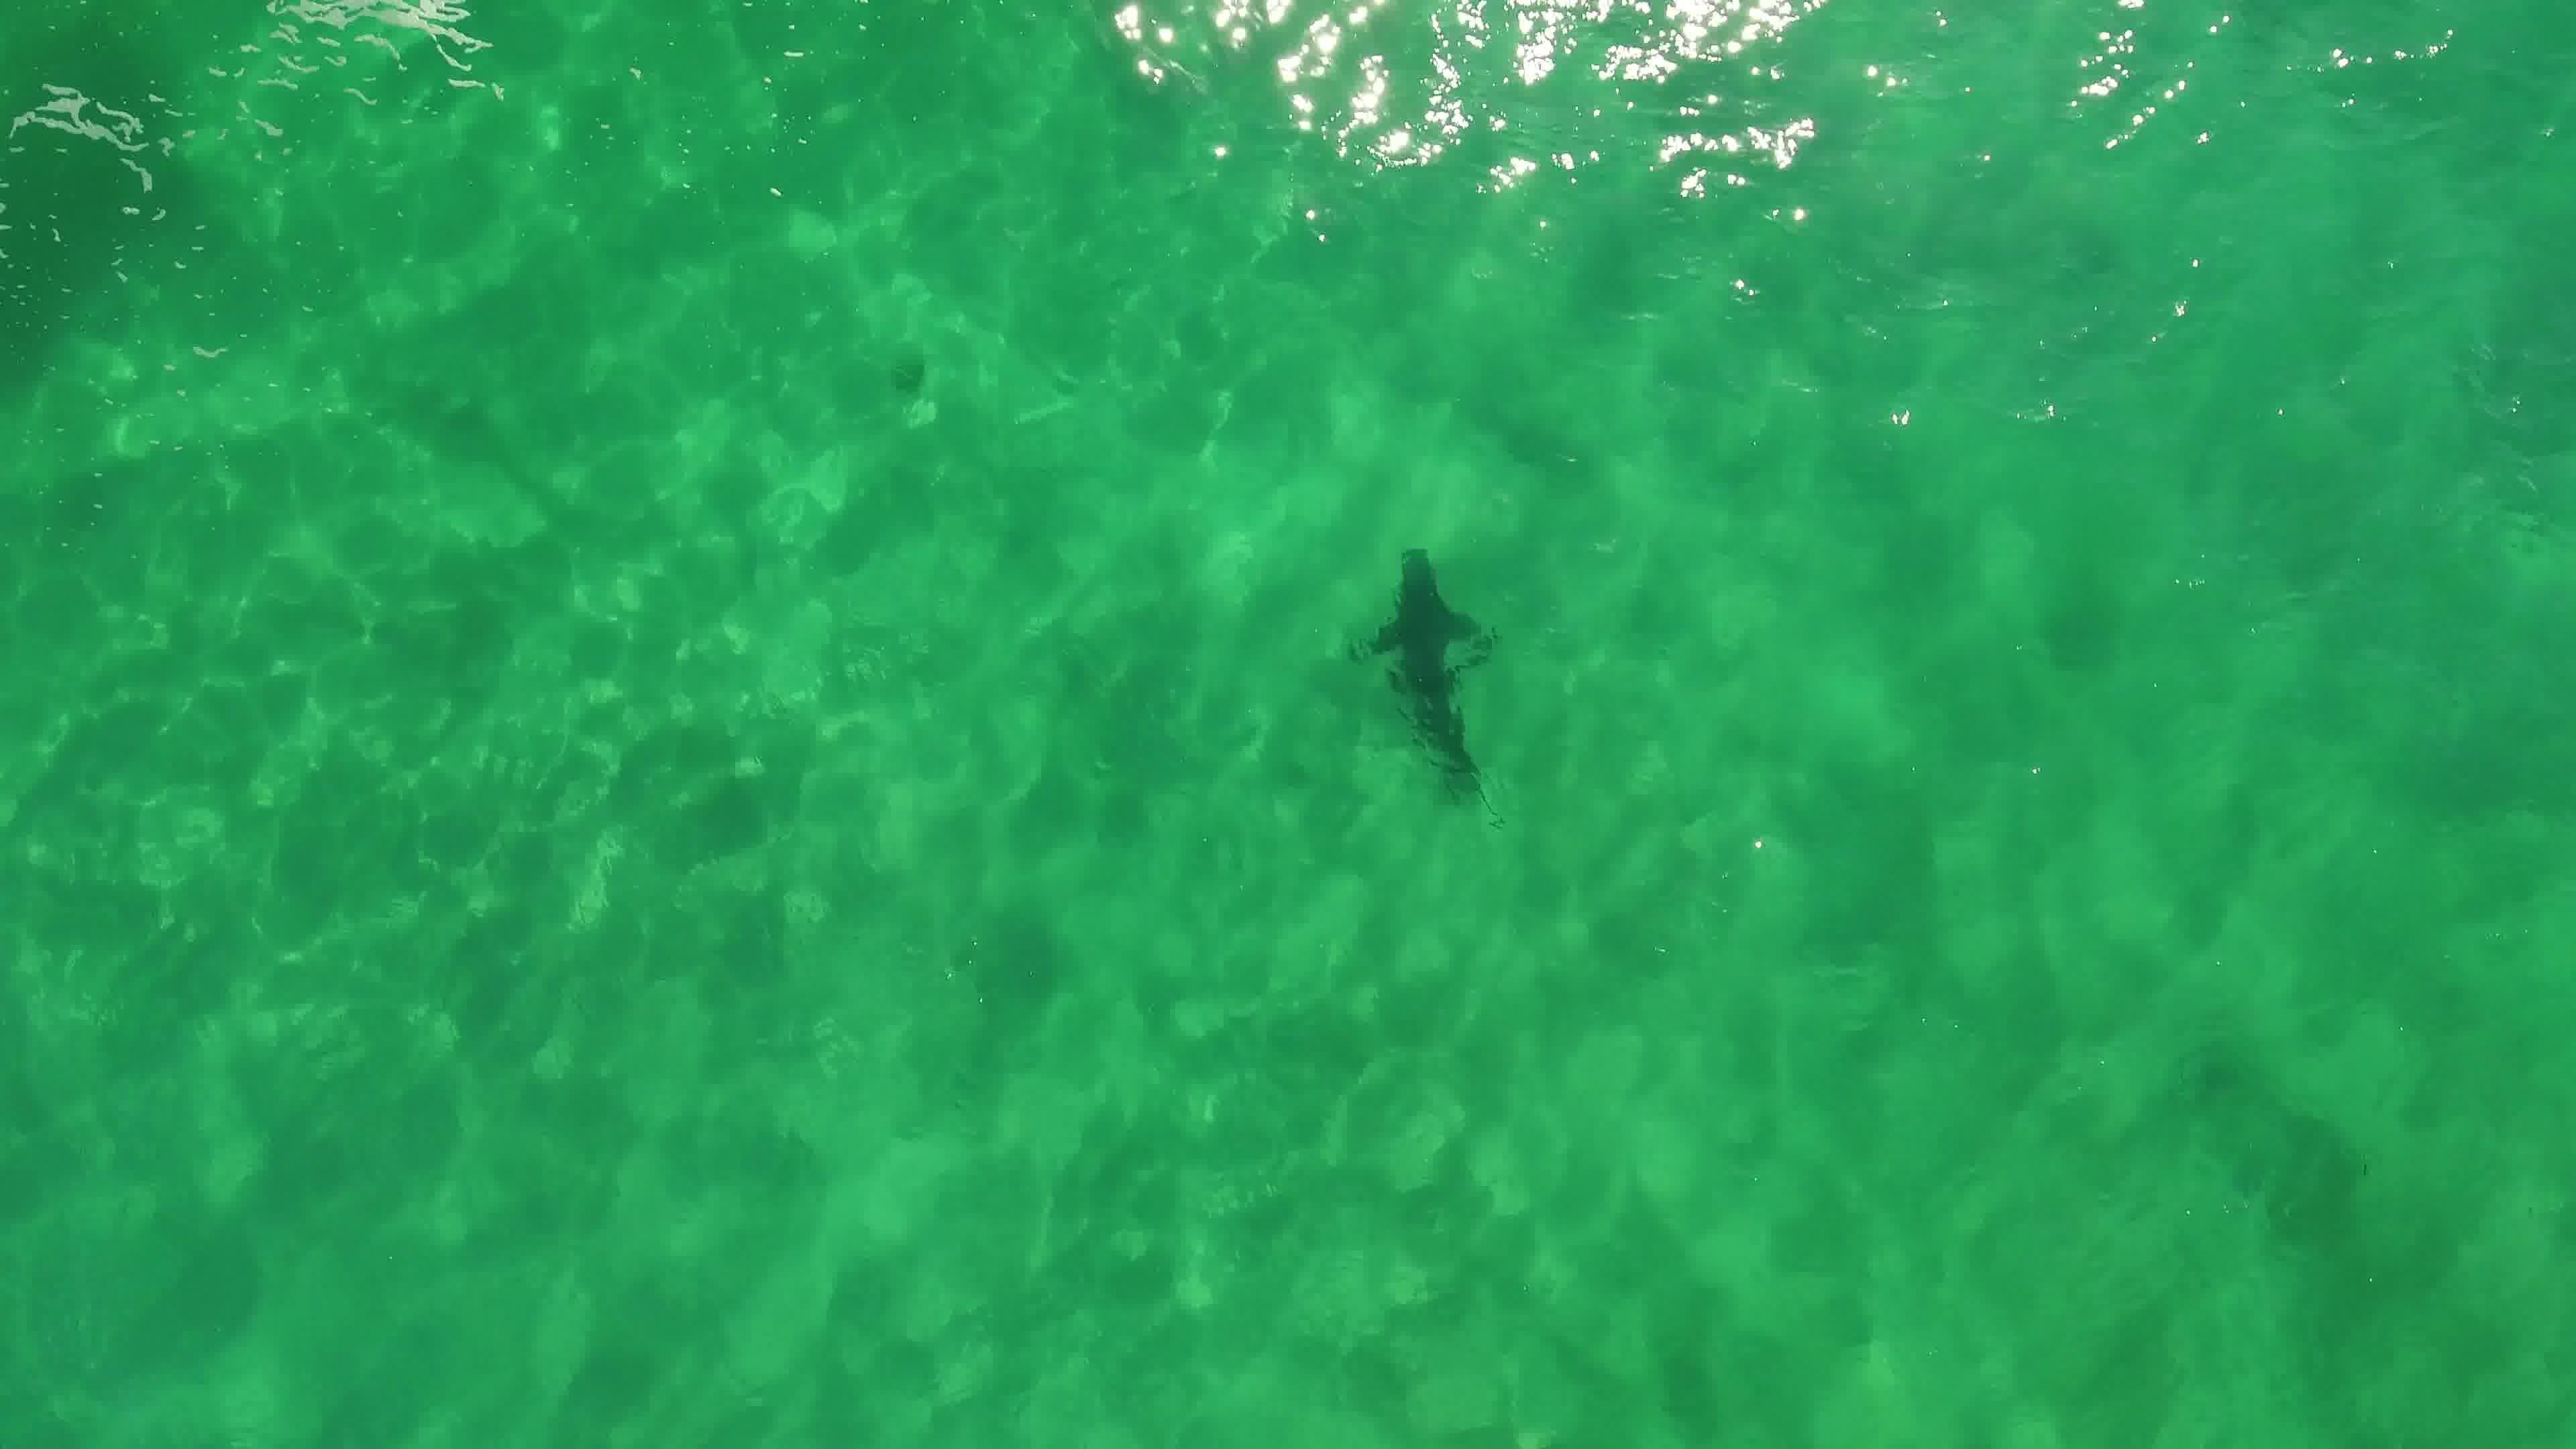shark: (1336, 543, 1504, 814)
